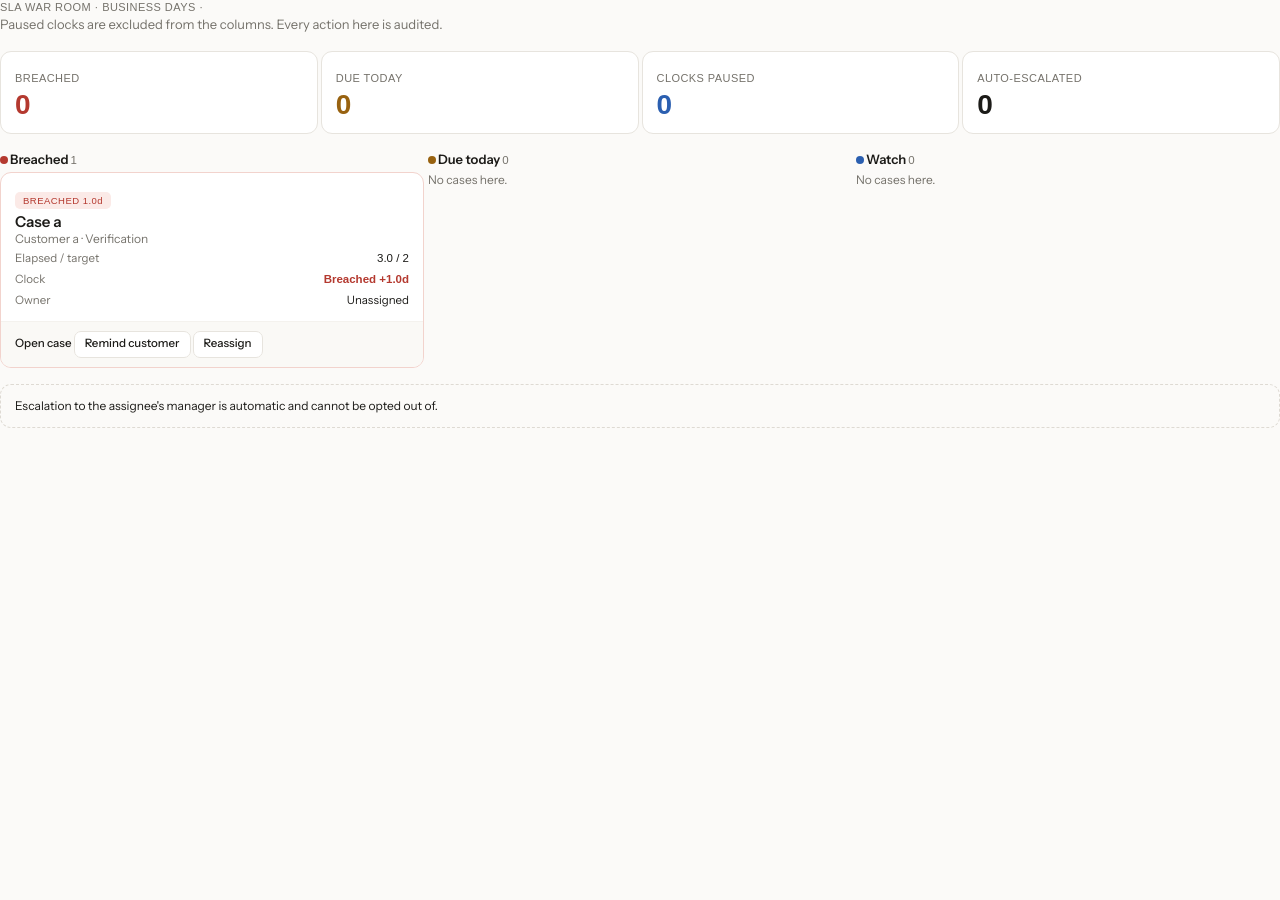
Test: SLA war room page › card actions › Remind customer opens the remind dialog
The image size is (1280, 900).
Click the button "Remind customer". click: x=132, y=344
box: [74,331,190,358]
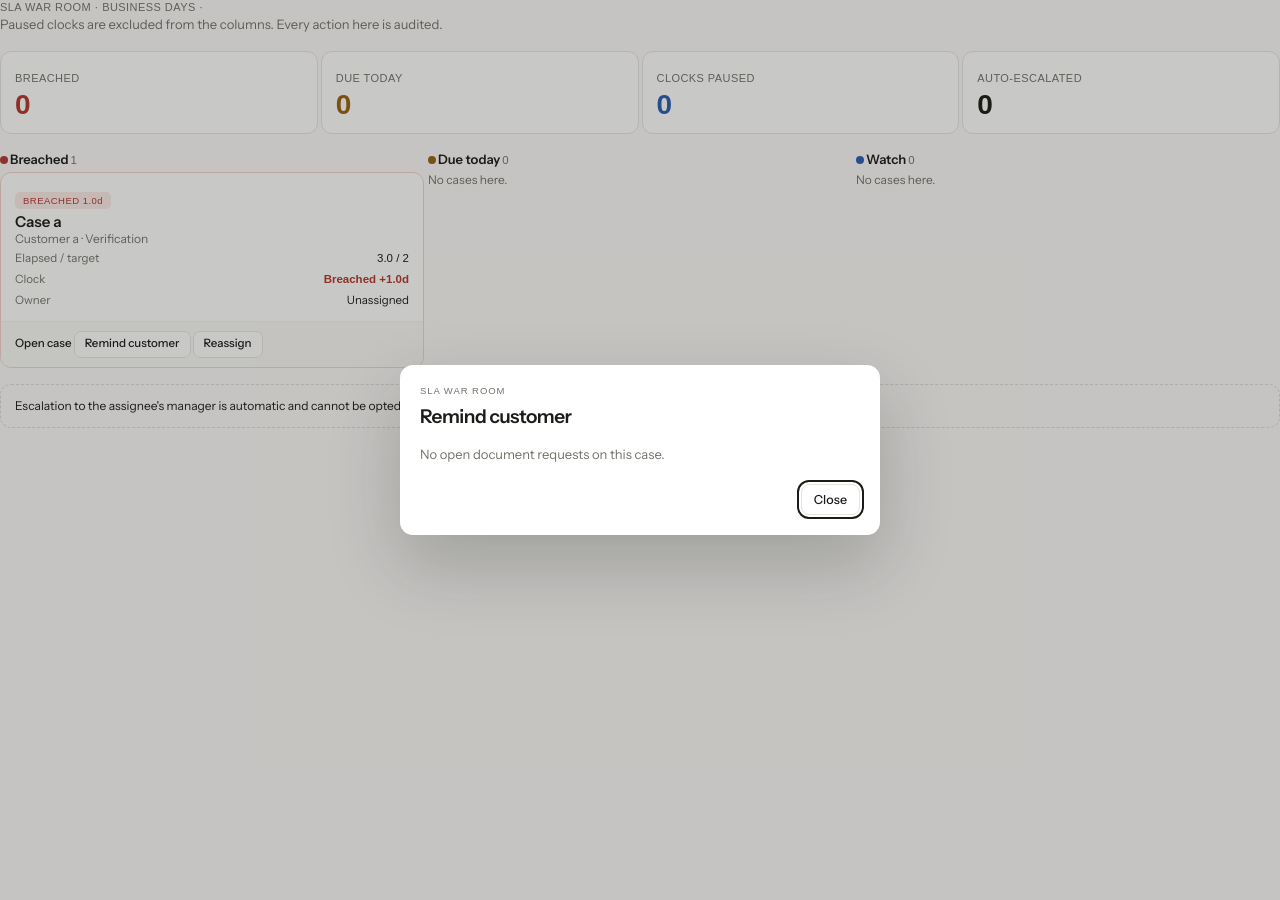
Check: the text "No open document requests on this case." is shown, box [420,446,665,462]
